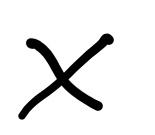mult: (18, 33, 118, 119)
